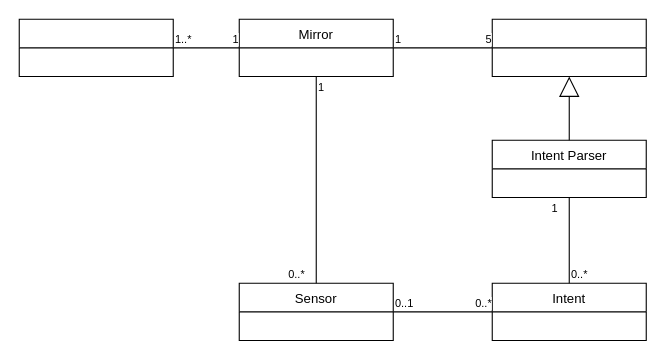
This 666x360 diagram has some shape labels left out. Each missing label, with the centre of its shape:
"Service" goes at (568,47).
"User" goes at (95,47).
